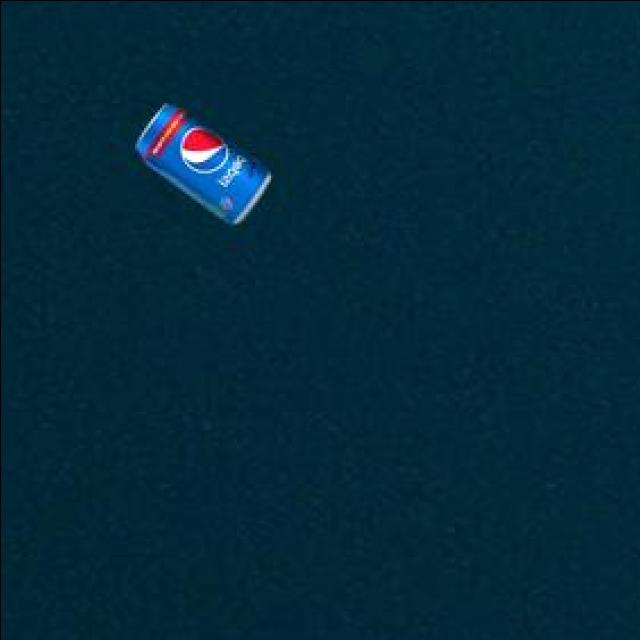logam: (140, 101, 273, 219)
